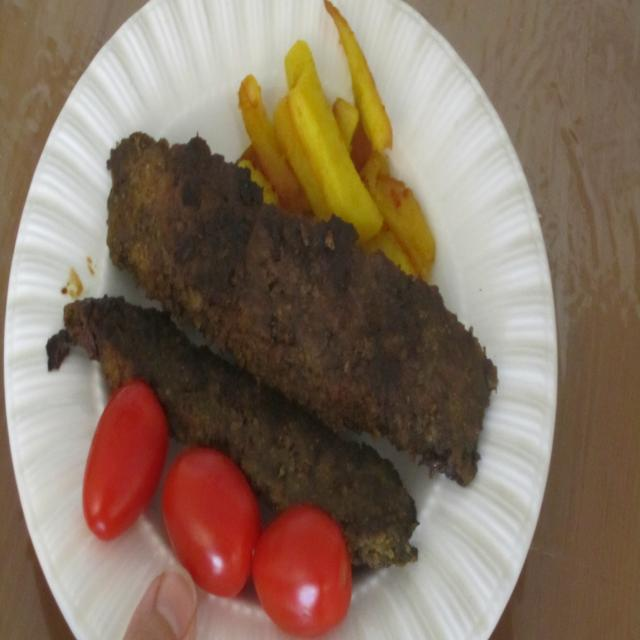cutlet: (107, 219, 371, 481)
potato: (269, 80, 382, 184)
tomato: (166, 492, 352, 638)
